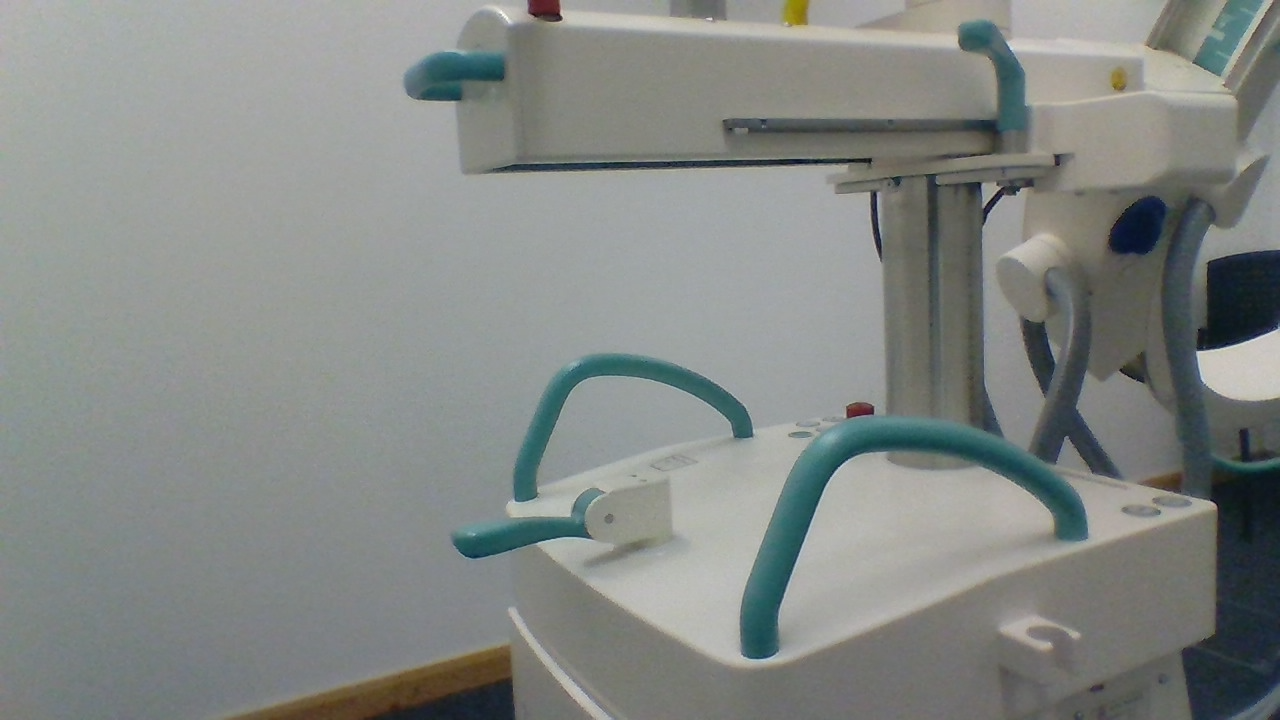carmBACK: (449, 471, 675, 564)
carmLOCK: (1107, 195, 1167, 259)
